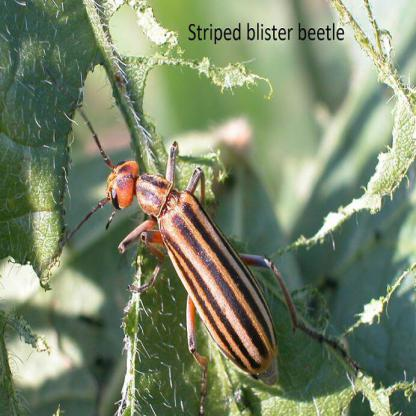blister beetle: (102, 140, 299, 385)
